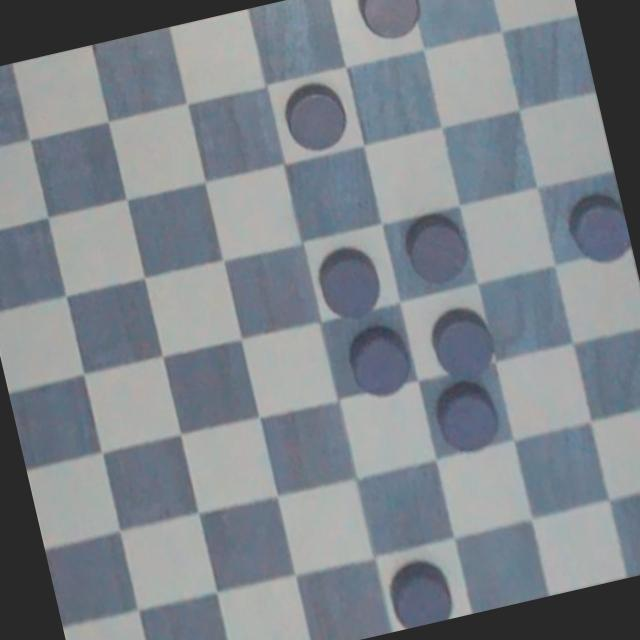BOARD: (0, 0, 640, 640)
black: (300, 234, 389, 330), (422, 298, 511, 390), (332, 318, 418, 411), (272, 71, 359, 157), (396, 206, 481, 292), (376, 545, 460, 632), (560, 188, 634, 272), (433, 383, 506, 464), (348, 0, 432, 47)
